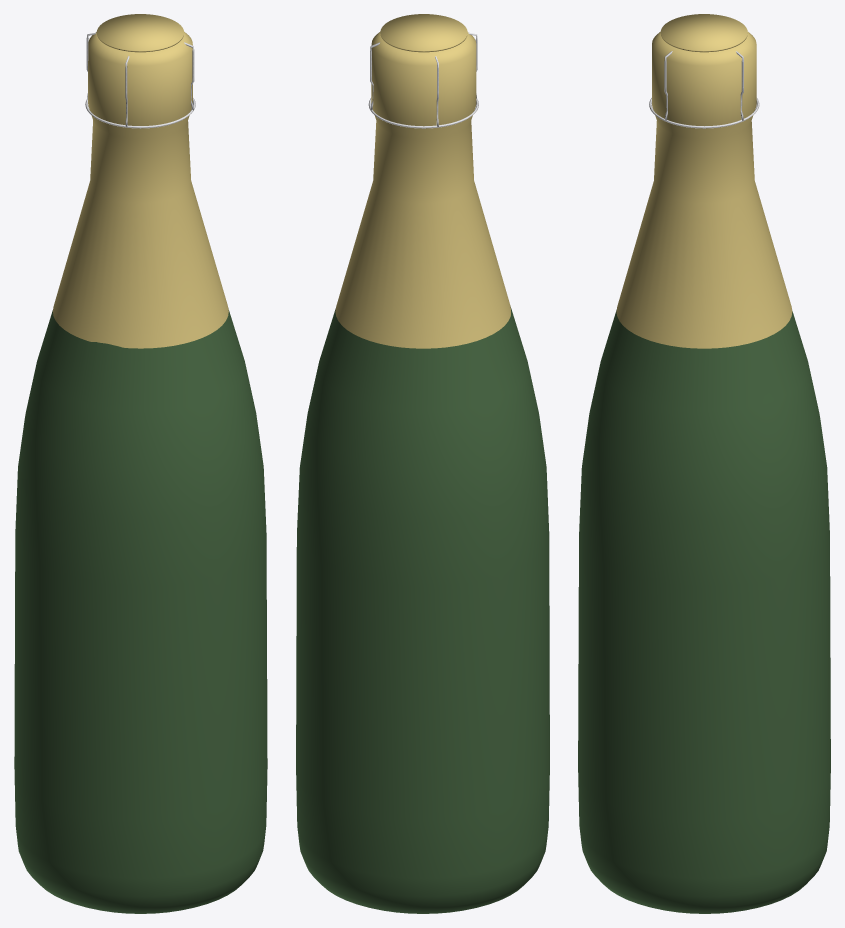
Rendered from bottle_champagne.glb.
3 renders of one model, left to right at view 1: azimuth 30°, elevation 25°; view 2: azimuth 150°, elevation 25°; view 3: azimuth 270°, elevation 25°, orthographic.
Visible parts, largest first — view 1: Glass, Cap, Cage; view 2: Glass, Cap, Cage; view 3: Glass, Cap, Cage.
Part boxes in pixels (x1,y1,x2,y2): Glass: [14, 308, 267, 913]; Cap: [52, 31, 228, 348]; Cage: [85, 14, 195, 128]; Glass: [296, 306, 549, 913]; Cap: [335, 32, 510, 348]; Cage: [368, 14, 478, 128]; Glass: [578, 310, 830, 913]; Cap: [616, 32, 792, 348]; Cage: [649, 14, 759, 128].
Size of the model in its own units: 0.0873 by 0.3181 by 0.087.
